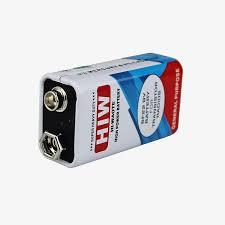9V: (39, 52, 194, 169)
